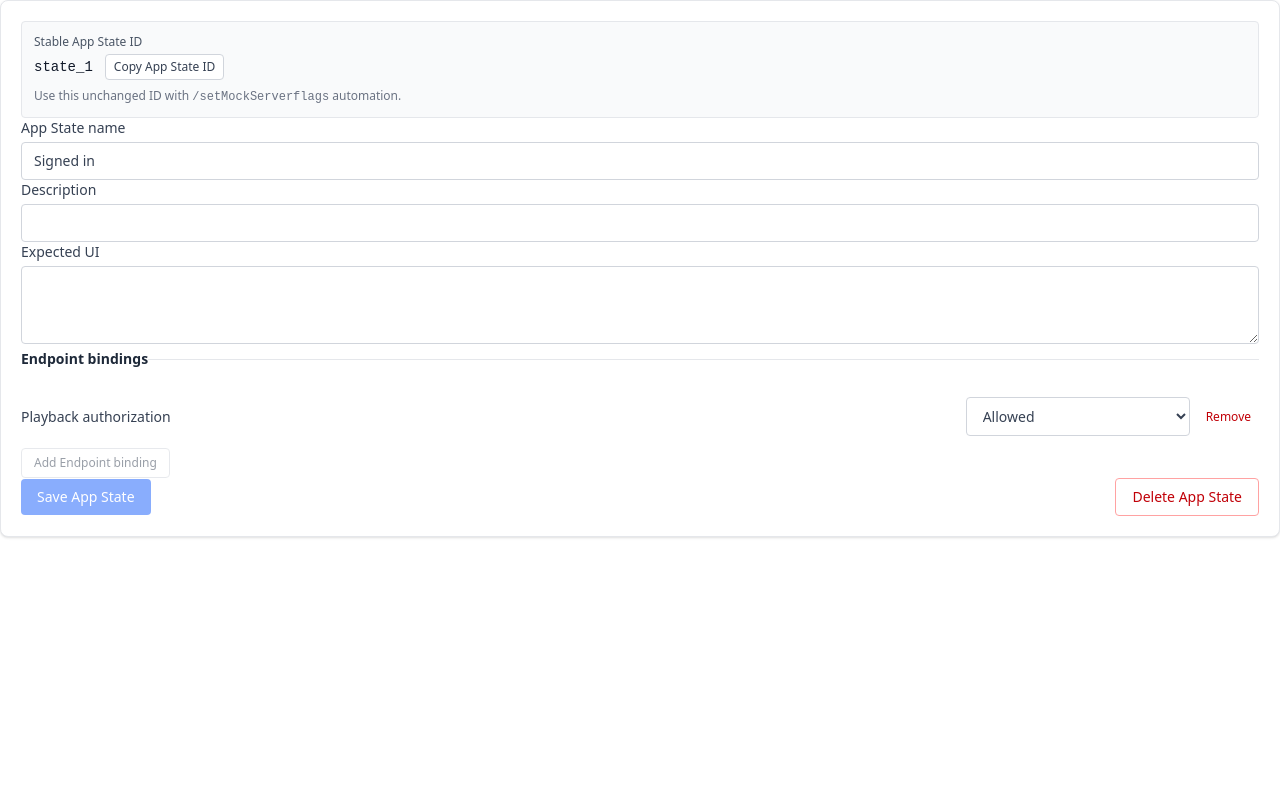
AppStateEditor › preserves App State fields and displays the current revision on conflict
Type "Local screen" into the text box labelled "Expected UI" at (640, 305), box left=21, top=266, right=1259, bottom=344
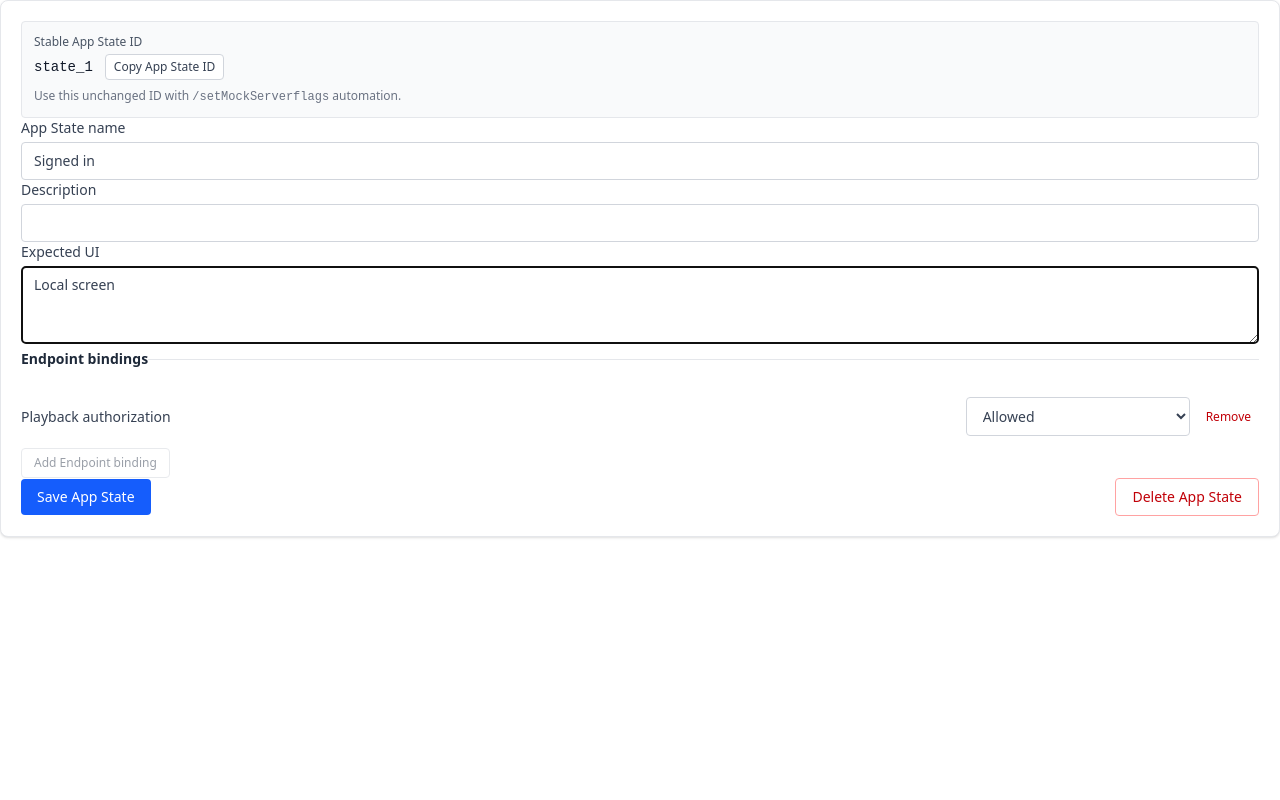
Click the button "Save App State" at (86, 497), box left=21, top=479, right=150, bottom=515
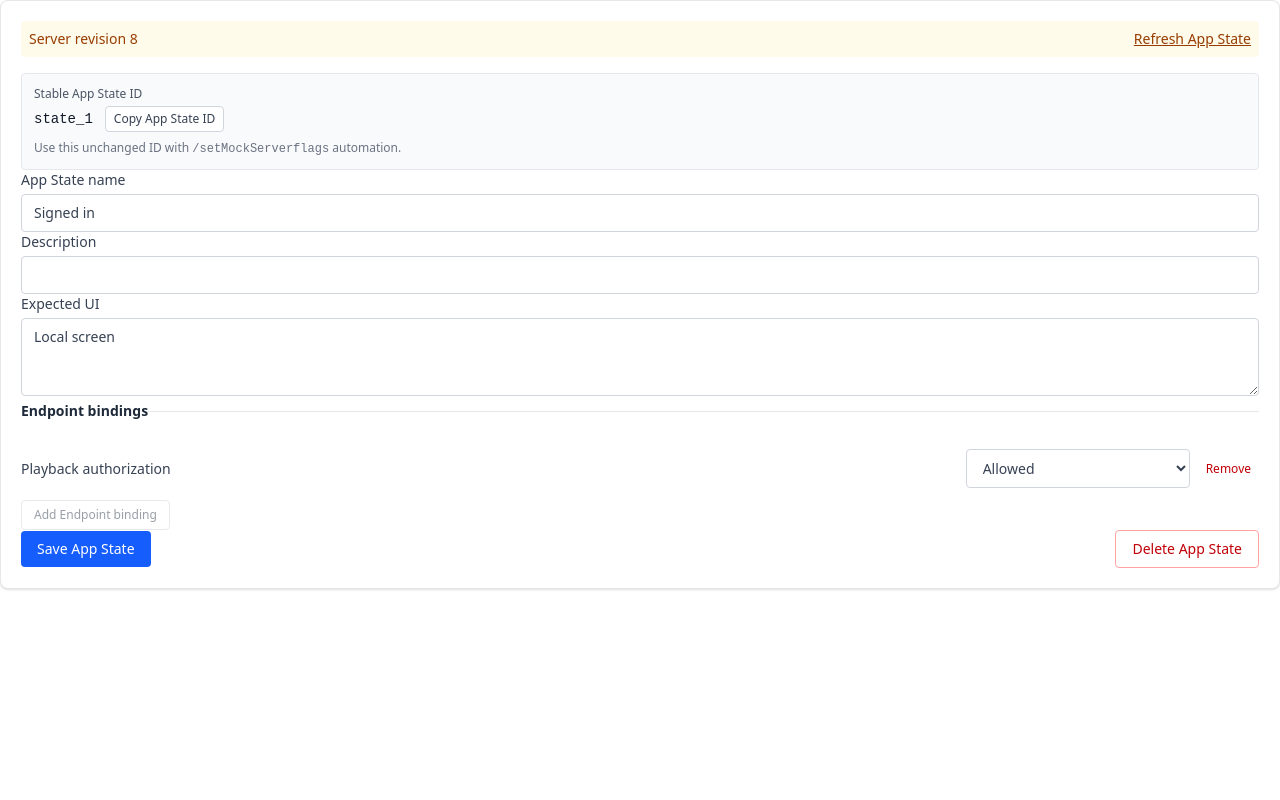
Check: the text "Server revision 8" is shown, box left=29, top=29, right=138, bottom=49
